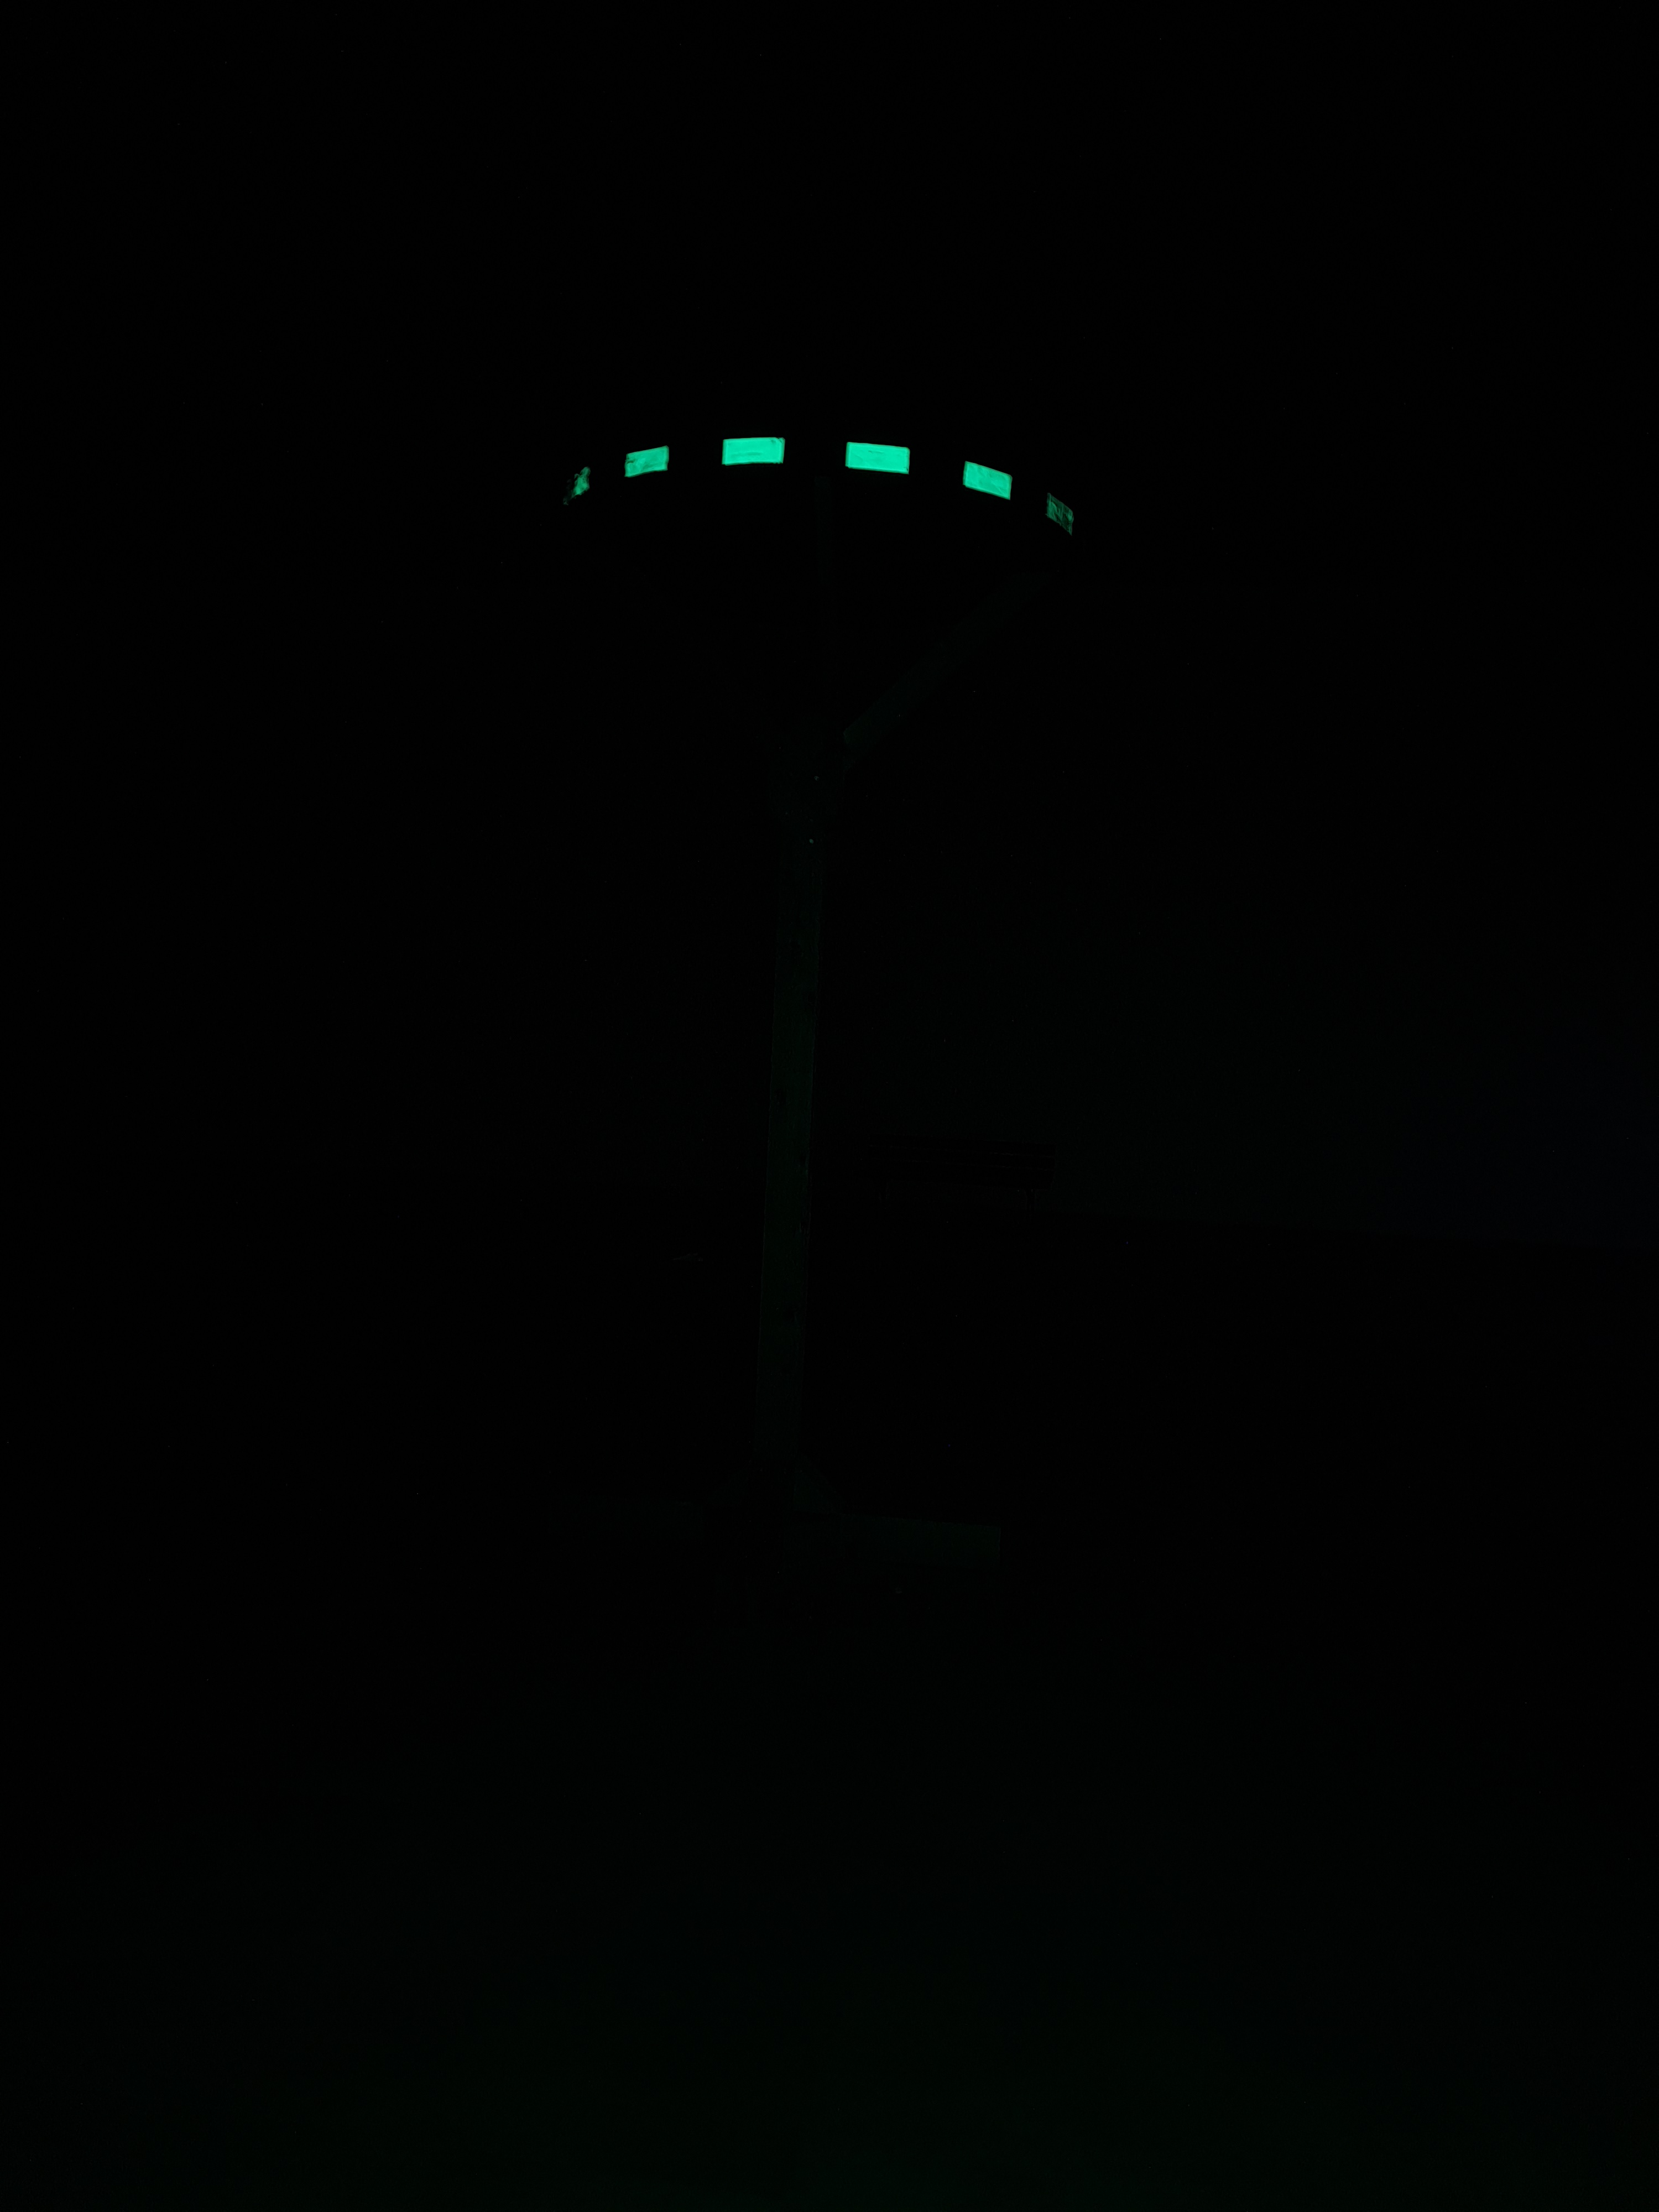hoop: (558, 421, 1079, 542)
